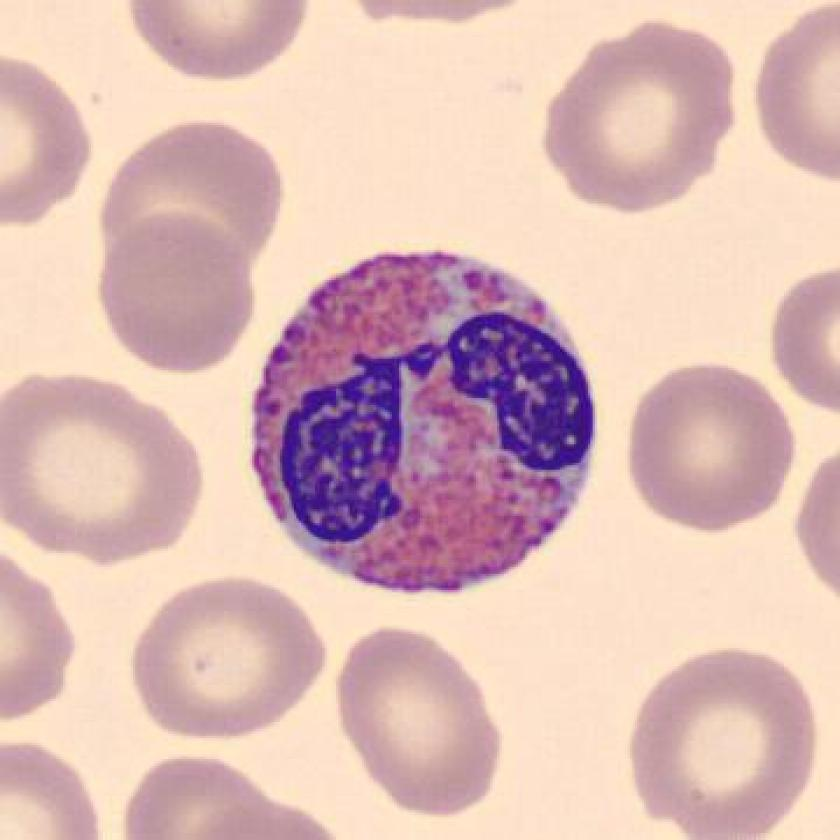eosinophil: (239, 235, 612, 617)
